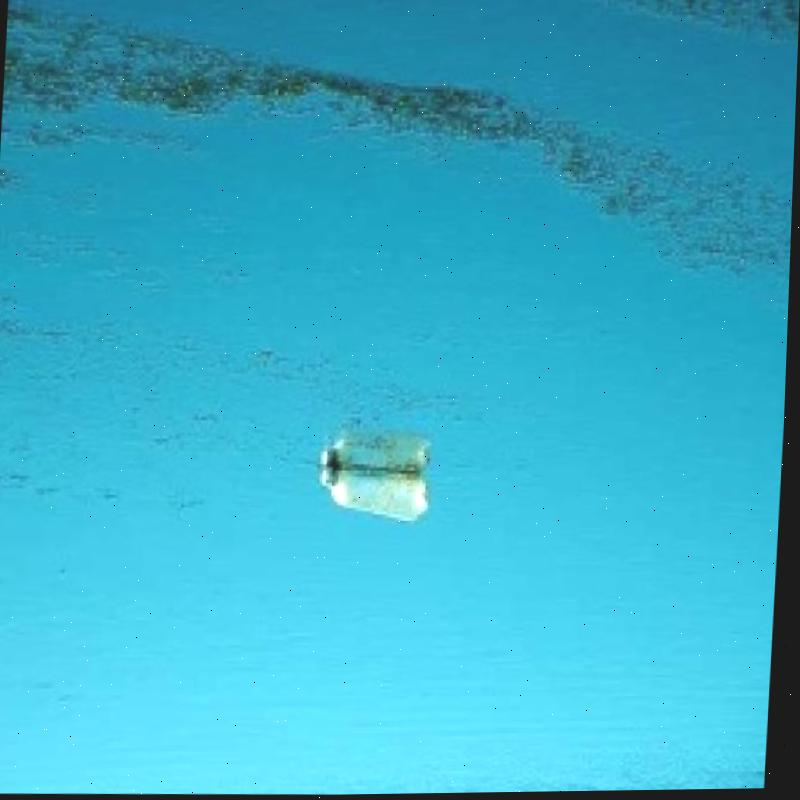botella: (319, 463, 434, 522)
